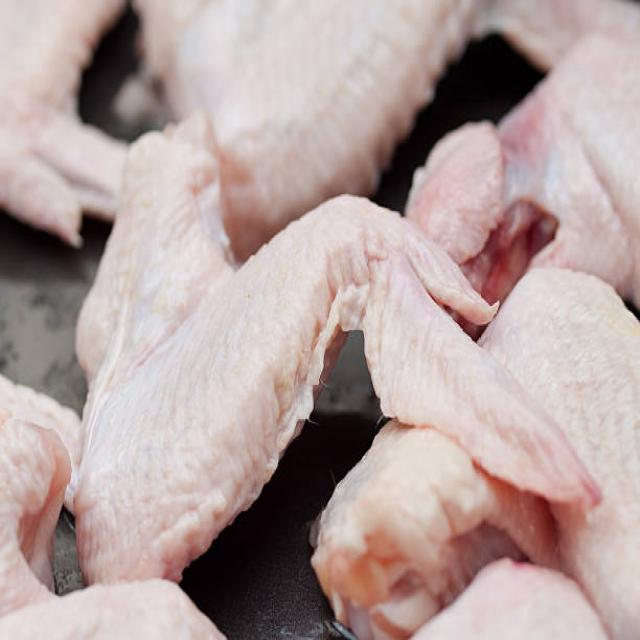Chicken Wing: (74, 129, 386, 595)
